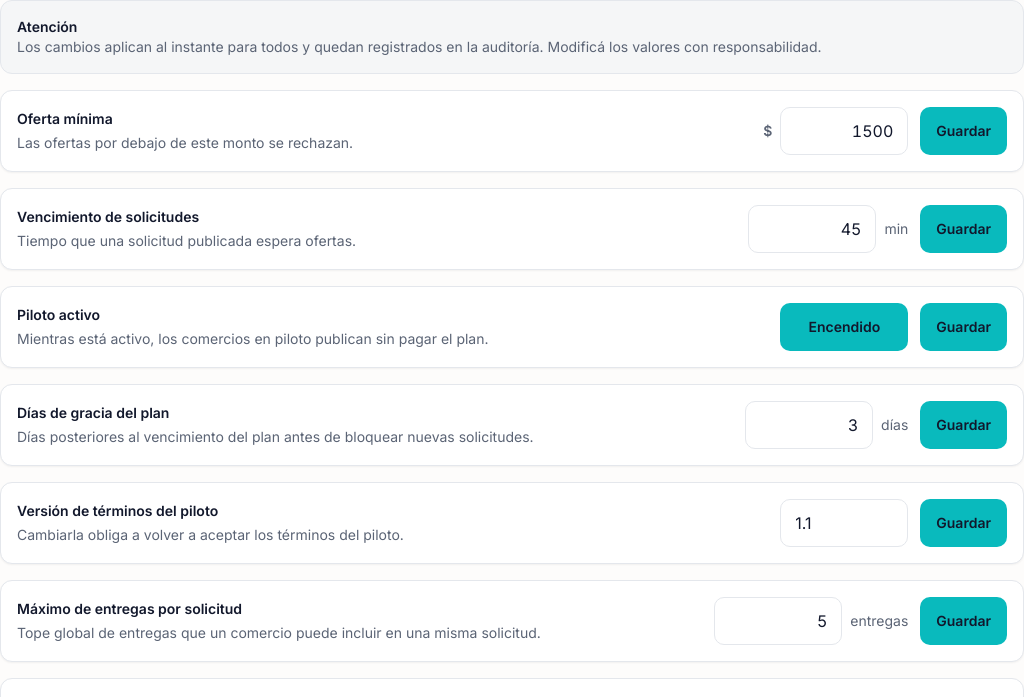
Test case: T-123: PlatformSettingsForm (A04) › si la sesión perdió aal2 al guardar piloto activo muestra el error y no refresca
The image size is (1024, 697).
Click the switch named "piloto activo".
click(844, 327)  # box [780,303,908,351]
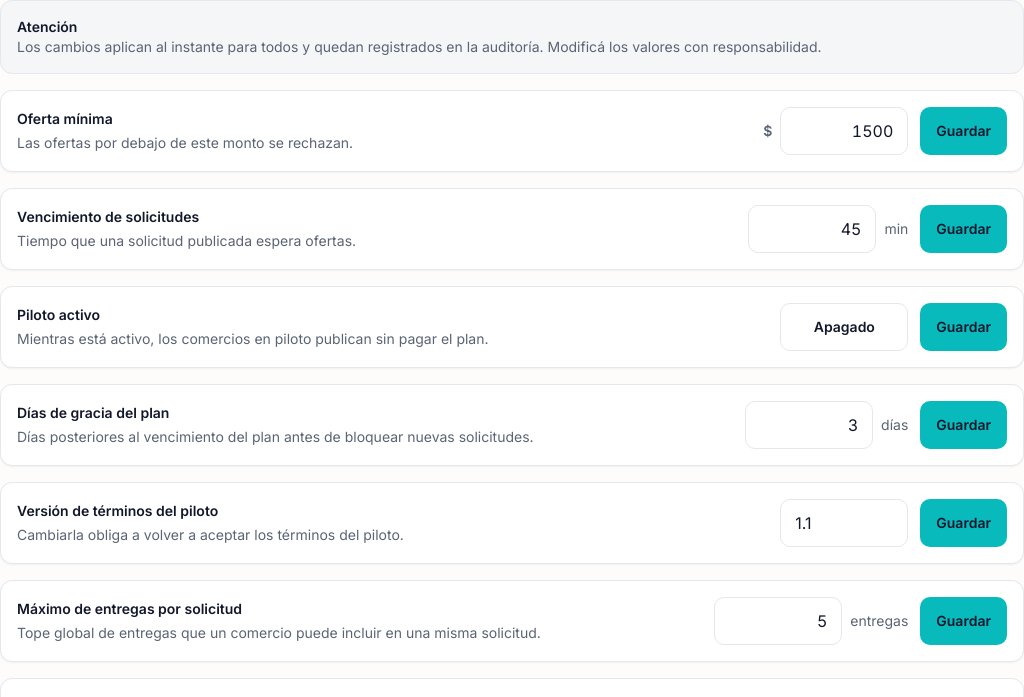
Click the button named "guardar piloto activo".
click(964, 327)  # box [920,303,1007,351]
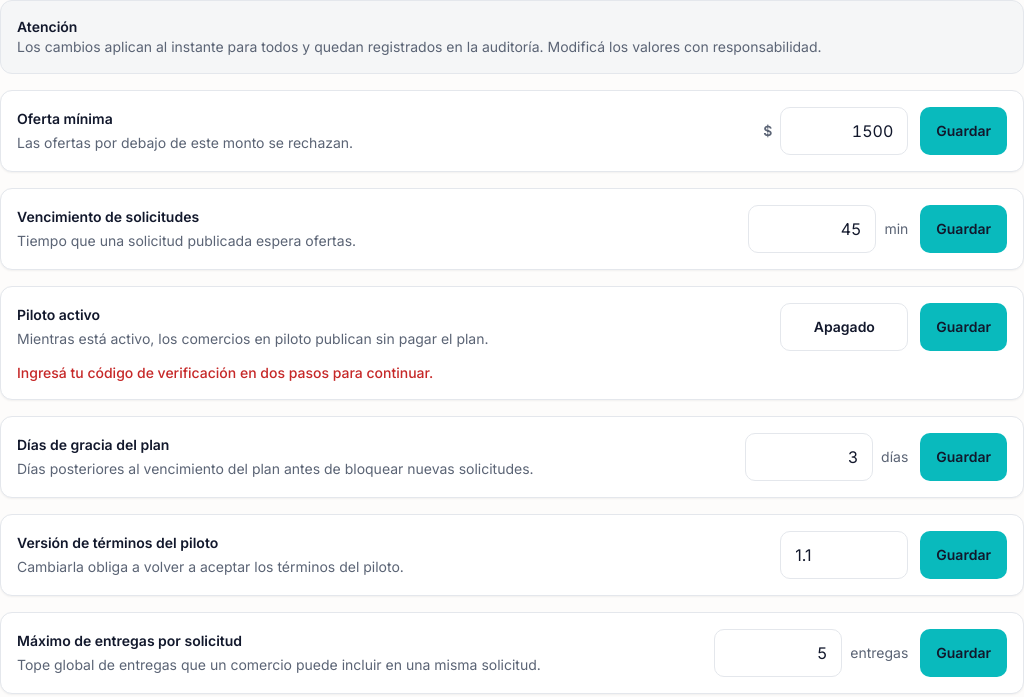
Result: the message "Ingresá tu código de verificación en dos pasos para continuar." is shown at [17,364,433,381]
